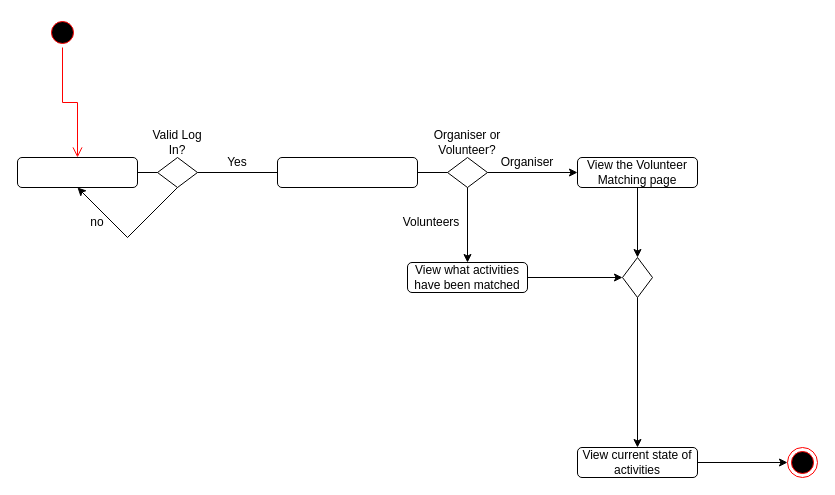
Some shapes in this 835 by 495 pixel diagram are drawn without their labels. The shapes that lost their labels are listed below. From the top down, each one's centre as x and y in pixels, then its label:
At [77,172]: "Log-in page".
At [347,172]: "Job Board".
